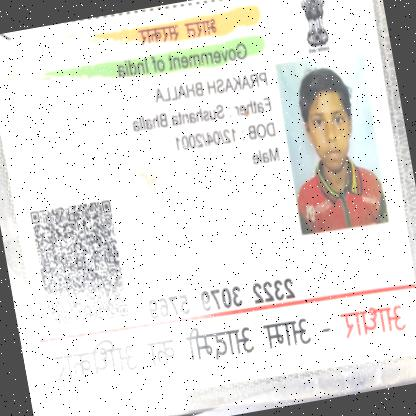aadhaar_card: (0, 0, 415, 413)
